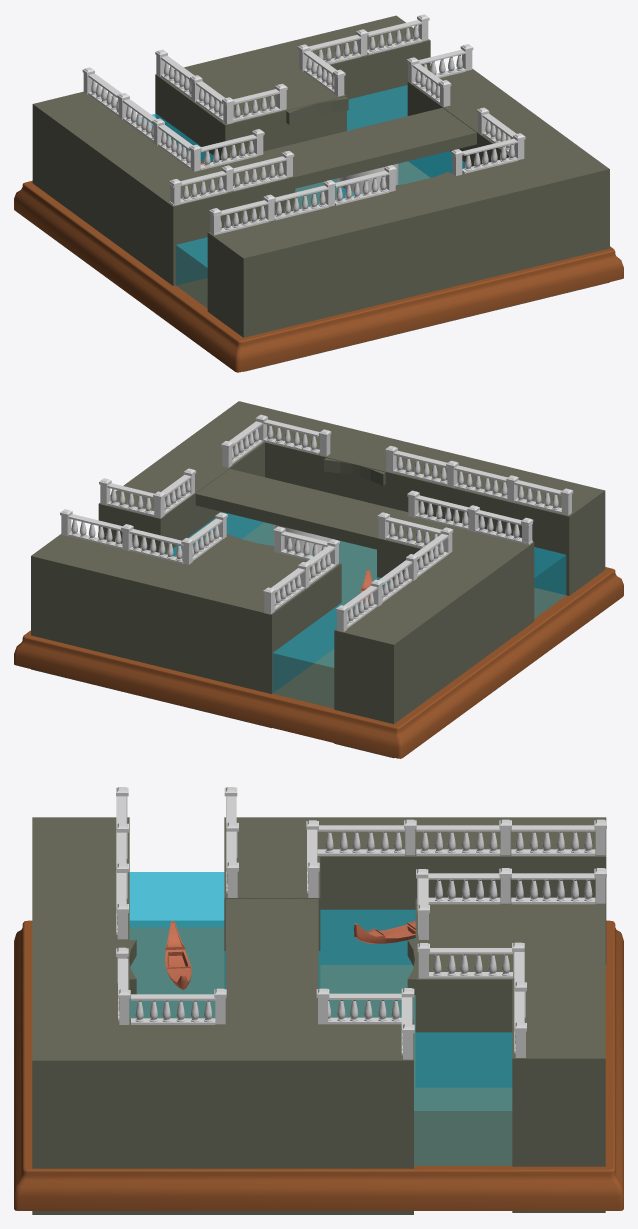
File: Level3.FBX
The picture shows the model from 3 angles, top to bottom: view 1: azimuth 30°, elevation 25°; view 2: azimuth 150°, elevation 25°; view 3: azimuth 270°, elevation 25°; orthographic projection. The views are drawn at different scales.
Visible parts, largest first — view 1: Box070, Container001, Box071, Box069, Cylinder060, Cylinder062, Cylinder064; view 2: Container001, Box069, Box070, Box071, Cylinder060, Cylinder063, Cylinder064; view 3: Container001, Box070, Box069, Box071, Cylinder060, Plane009, Plane008.
Part boxes in pixels (<box>): Box070: <box>207,69,609,371</box>; Container001: <box>14,14,623,372</box>; Box071: <box>32,91,295,285</box>; Box069: <box>155,15,430,162</box>; Cylinder060: <box>265,109,471,187</box>; Cylinder062: <box>286,96,348,124</box>; Cylinder064: <box>338,163,398,198</box>; Container001: <box>14,414,623,758</box>; Box069: <box>31,534,341,728</box>; Box070: <box>98,401,605,595</box>; Box071: <box>334,515,534,758</box>; Cylinder060: <box>200,470,406,548</box>; Cylinder063: <box>324,458,385,485</box>; Cylinder064: <box>274,524,332,555</box>; Container001: <box>14,787,623,1210</box>; Box070: <box>32,817,413,1214</box>; Box069: <box>415,898,605,1212</box>; Box071: <box>224,817,606,988</box>; Cylinder060: <box>225,899,318,1019</box>; Plane009: <box>165,920,191,989</box>; Plane008: <box>354,921,415,943</box>.
Size of the model in its own units: 336 by 113 by 336.
